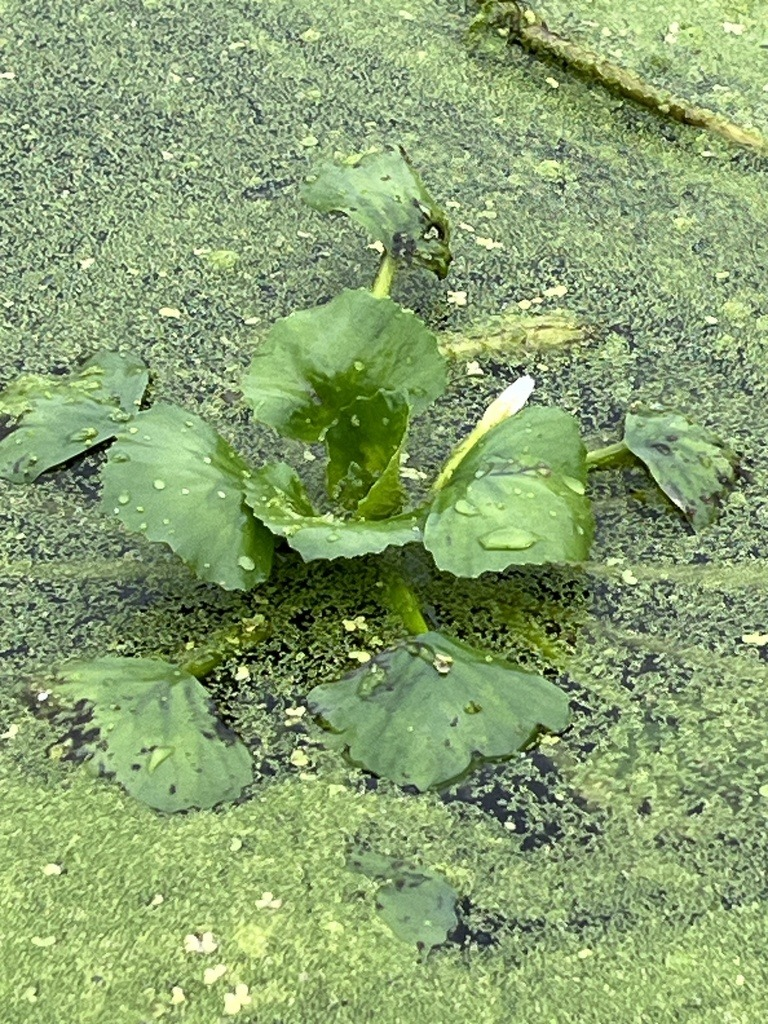water chestnut: (4, 142, 743, 815)
